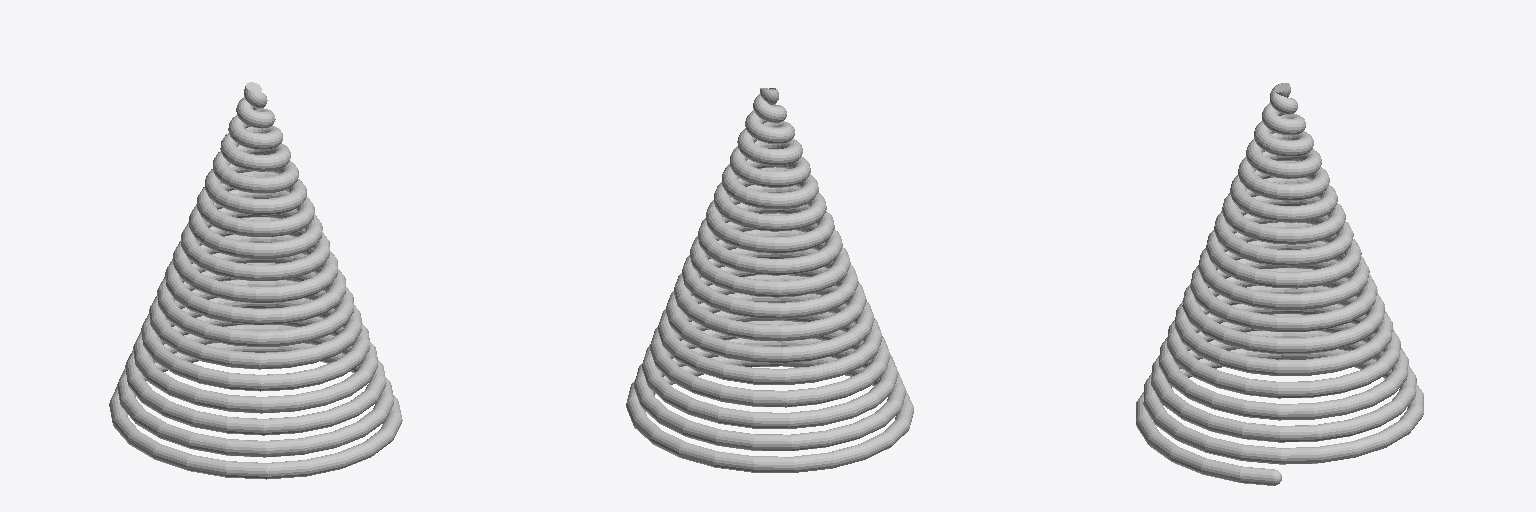
File: FalloffSpiral.obj
The picture shows the model from 3 angles: view 1: azimuth 30°, elevation 25°; view 2: azimuth 150°, elevation 25°; view 3: azimuth 270°, elevation 25°; orthographic projection.
Parts seen in each view (by area): view 1: Spring; view 2: Spring; view 3: Spring.
Boxes of the visible parts, box(x1,y1,x2,y2) form: Spring: box(109, 82, 402, 479); Spring: box(626, 88, 913, 472); Spring: box(1136, 83, 1423, 485).
Bounding box in the file's own units: 5.25 × 6.72 × 5.16.